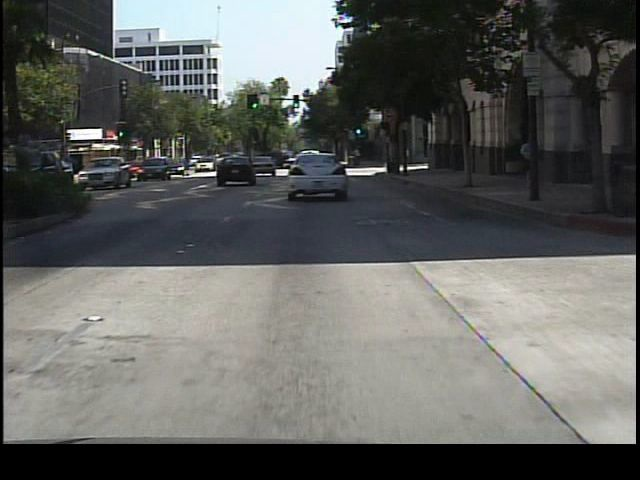person: (518, 134, 542, 195)
